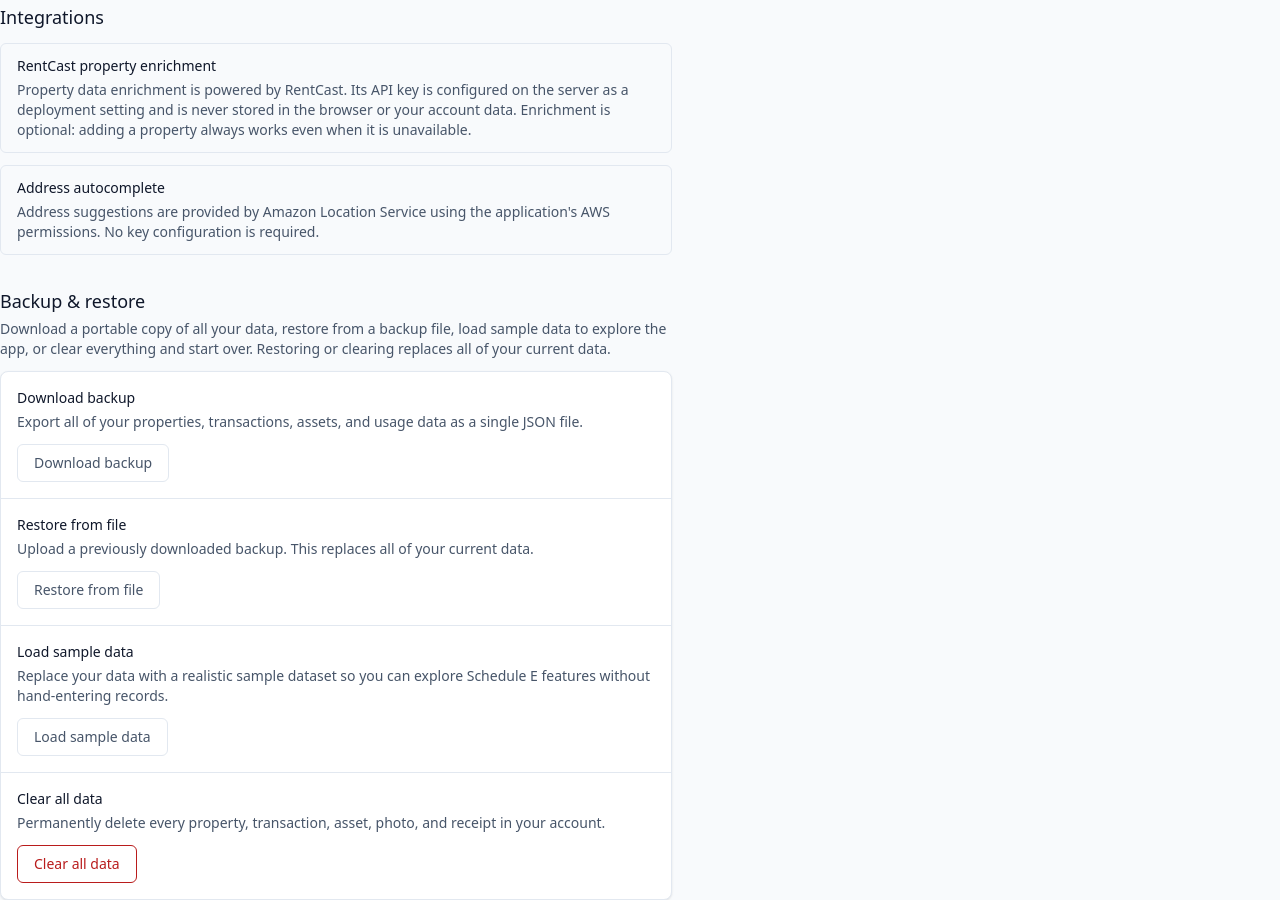
Test: ProfilePage — Backup & restore: Clear all data (Req 9.1, 9.2) › confirming clears the data and shows a success toast
(page scrolled)
Click the button "Clear all data" at (77, 864), box [17,845,137,883]
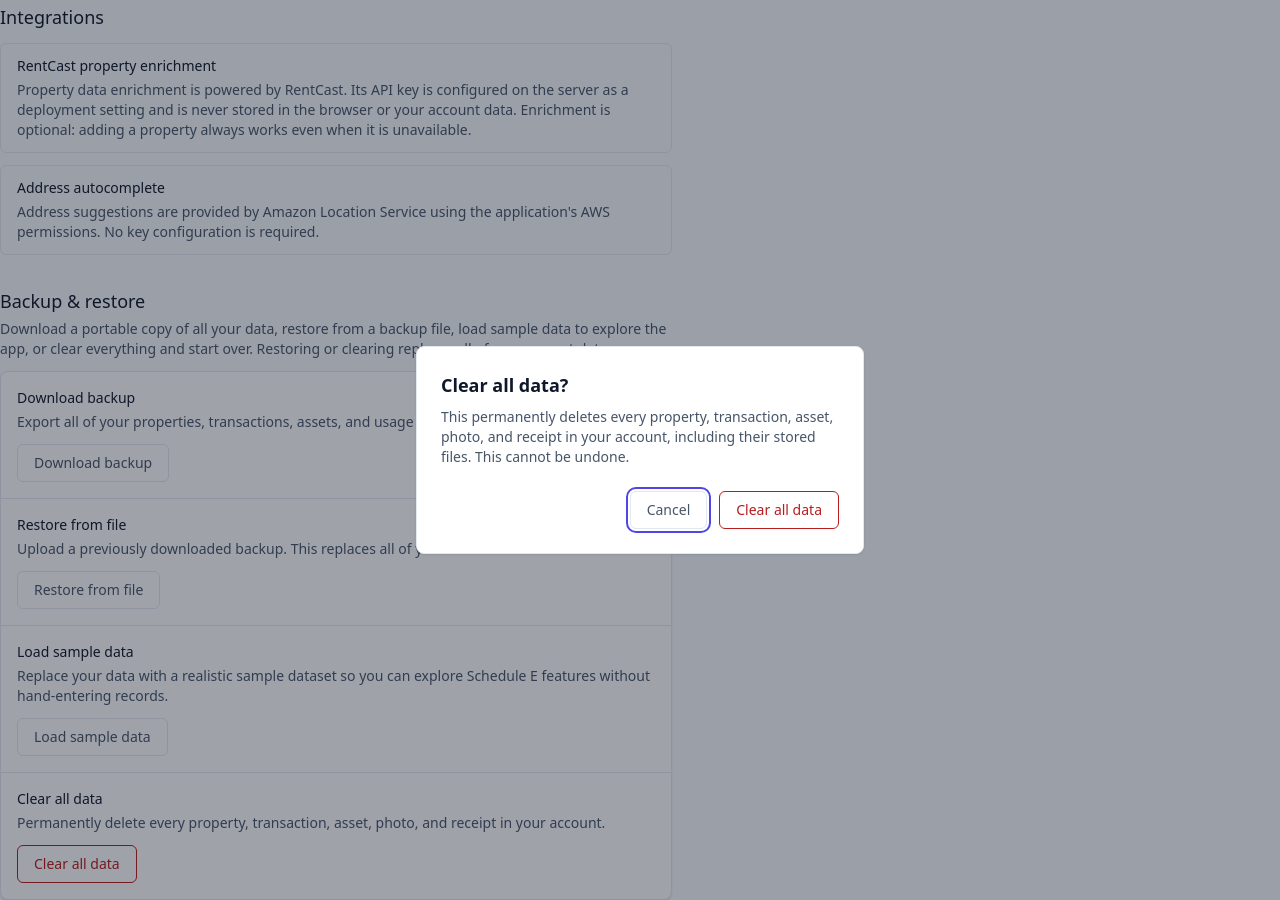
Result: the heading "Clear all data?" is shown at [441,373,568,397]
Click the button "Clear all data" at (779, 510), box [719,491,839,529]
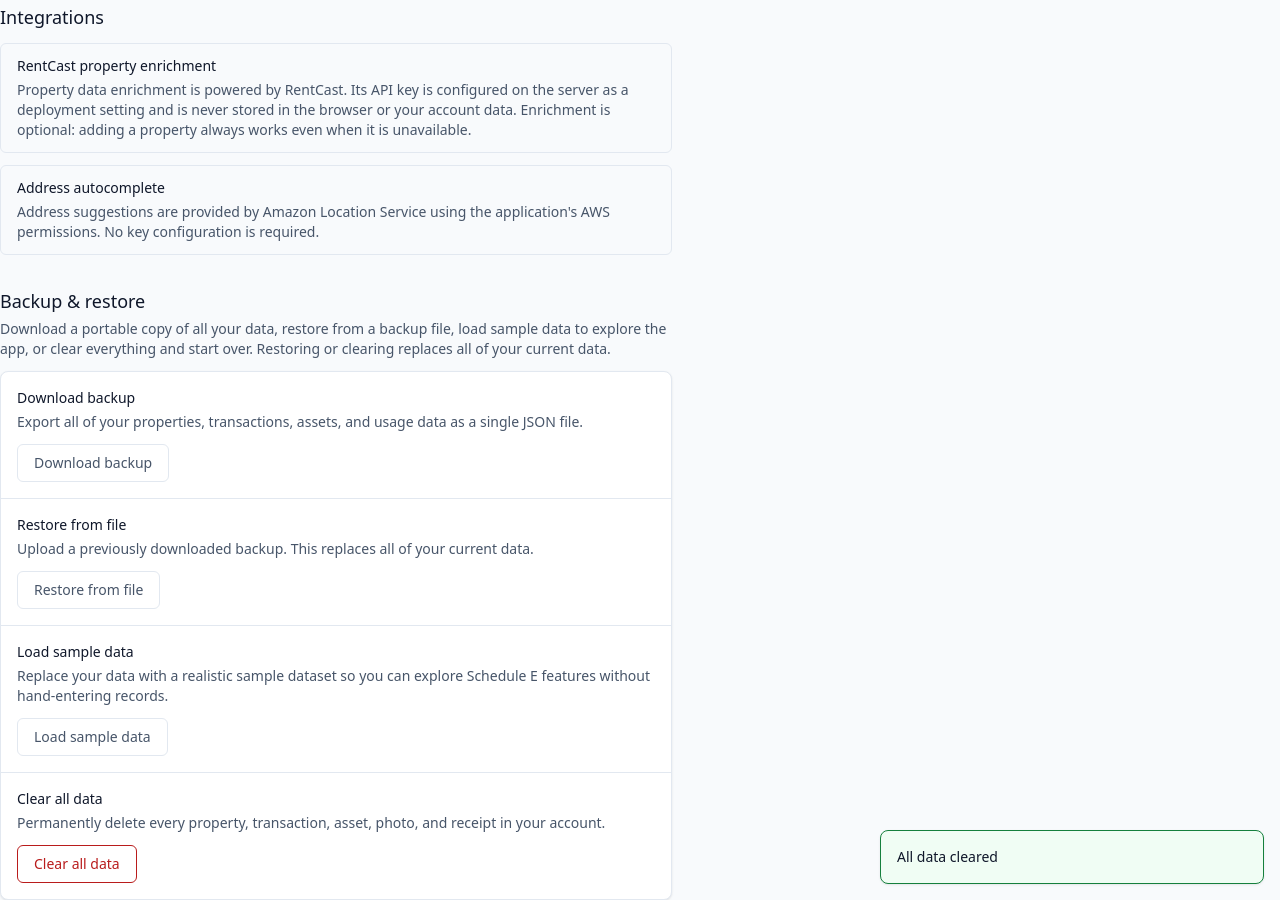
Result: the text "All data cleared" is shown at [897,847,998,866]
